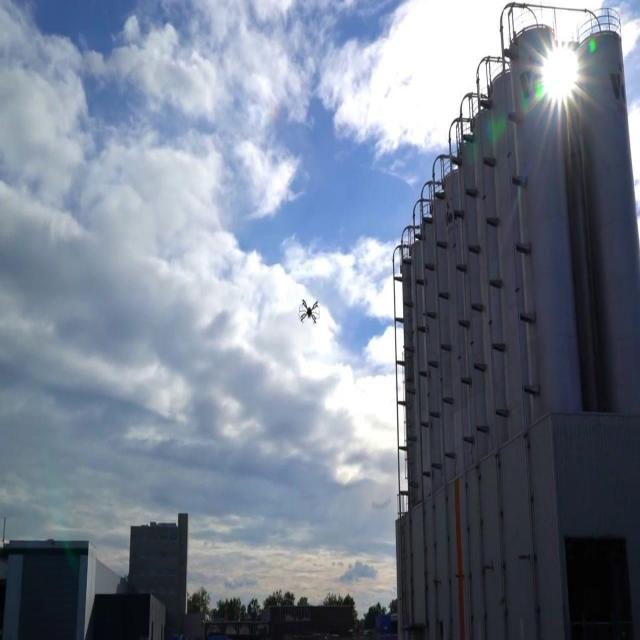UAV: (298, 298, 320, 324)
